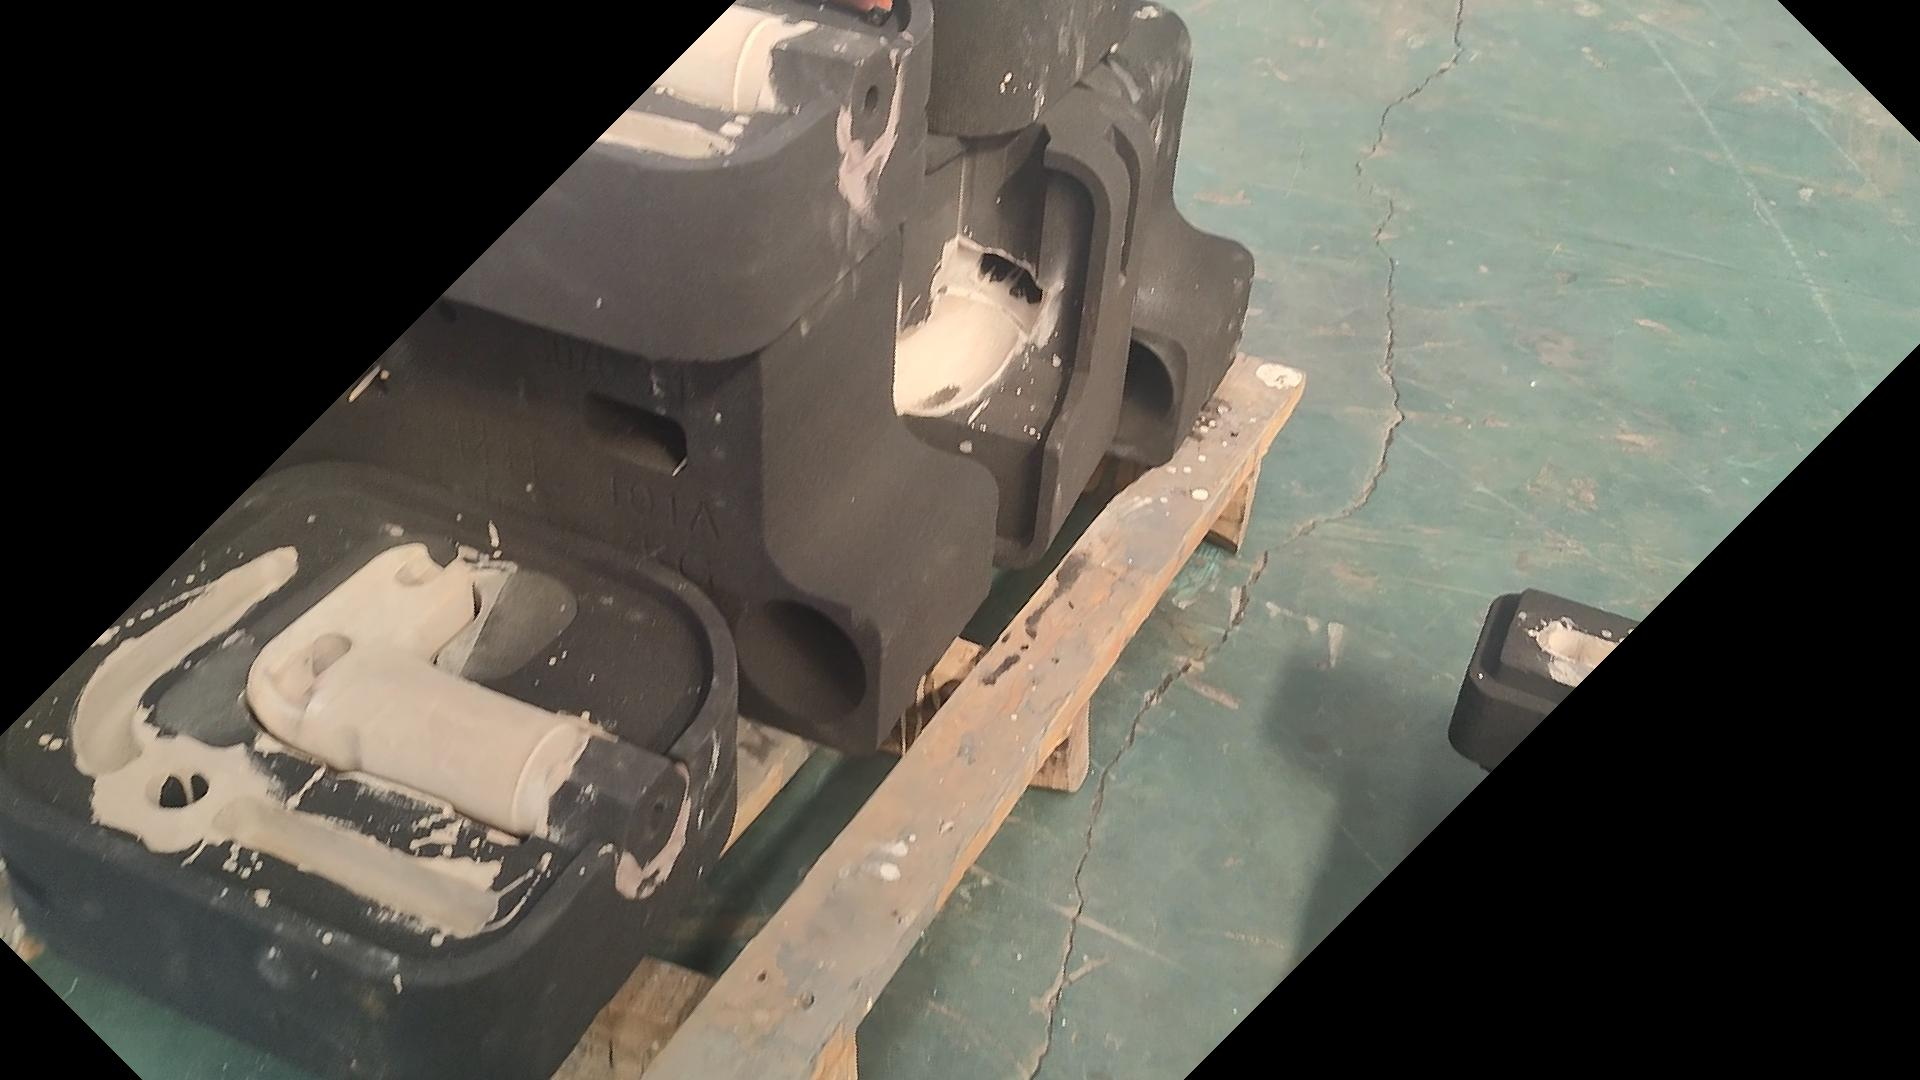pouring hole: (735, 600, 866, 721), (1068, 334, 1174, 443)
